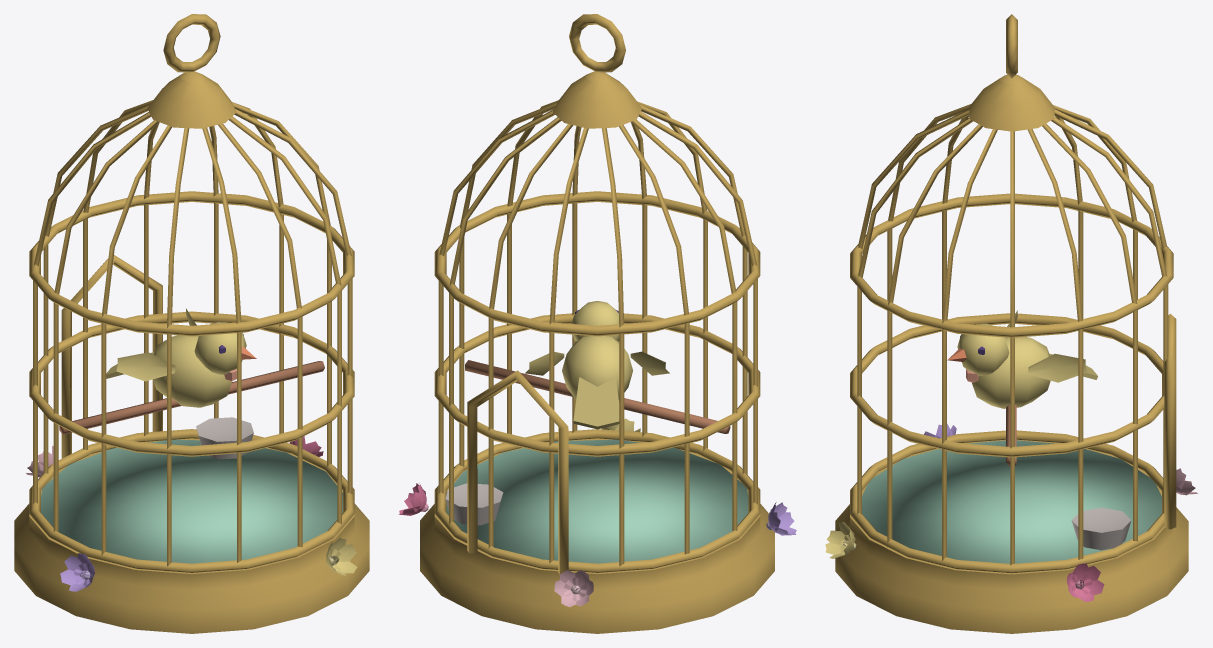
The model's file is songbird_cage_small.glb.
The picture shows the model from 3 angles, left to right: view 1: azimuth 30°, elevation 25°; view 2: azimuth 150°, elevation 25°; view 3: azimuth 270°, elevation 25°; orthographic projection.
Parts seen in each view (by area): view 1: songbird_cage_small; view 2: songbird_cage_small; view 3: songbird_cage_small.
Part boxes in pixels (x1,y1,x2,y2): songbird_cage_small: (14,14,369,633); songbird_cage_small: (398,14,796,633); songbird_cage_small: (825,14,1198,633).
Size of what is drawn, in the model's own units: 0.25 by 0.4 by 0.25.
